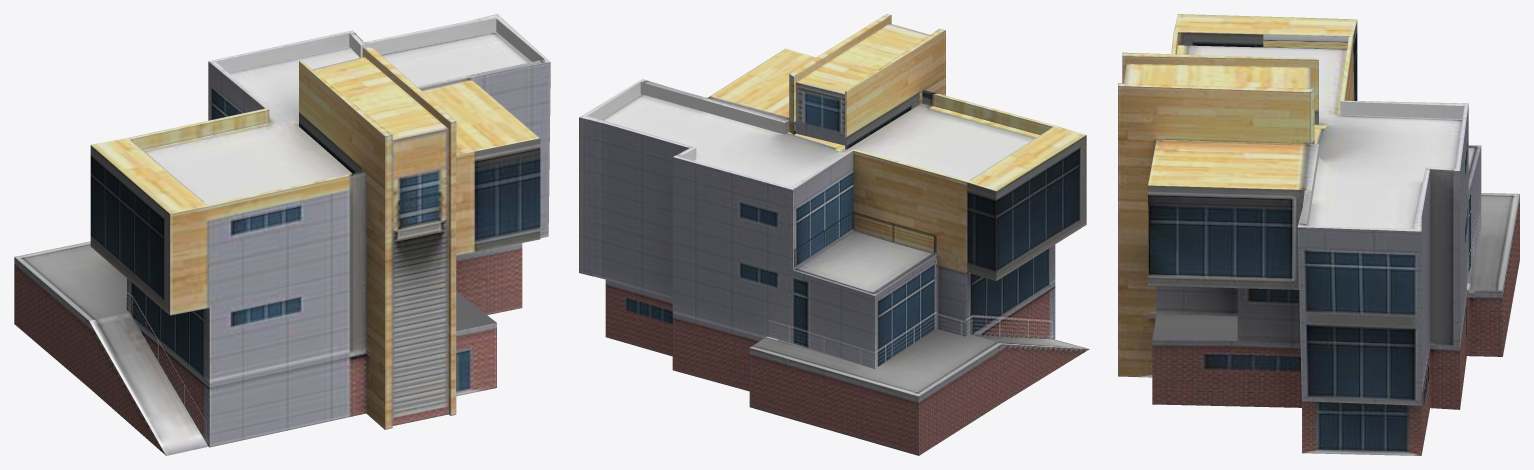
The picture shows the model from 3 angles, left to right: view 1: azimuth 30°, elevation 25°; view 2: azimuth 150°, elevation 25°; view 3: azimuth 270°, elevation 25°; orthographic projection. The views are drawn at different scales.
Visible parts, largest first — view 1: MainBuilding; view 2: MainBuilding; view 3: MainBuilding.
Part boxes in pixels (box(x1,y1,x2,y2)): MainBuilding: box(14, 14, 550, 455); MainBuilding: box(579, 14, 1089, 455); MainBuilding: box(1118, 14, 1519, 455).
Size of the model in its own units: 1.9 by 1.17 by 1.47.
Materials: 1 (1 with a texture image).
